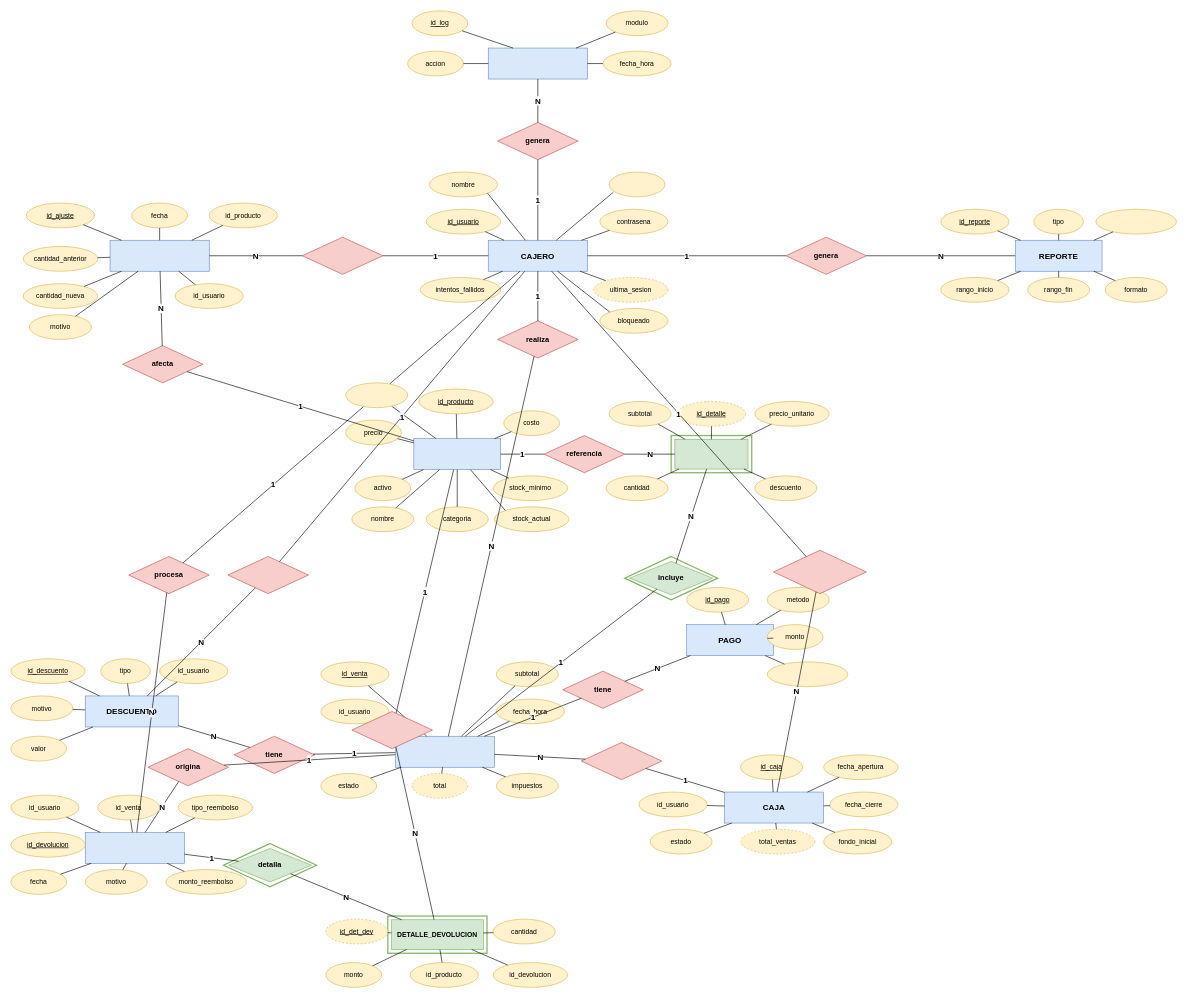
This 1187x998 diagram has some shape labels left out. The shapes that lost their labels are listed below. From the top down, each one's centre as x and y in pixels, then its label:
At (x=537, y=63): "LOG_AUDITORIA".
At (x=637, y=184): "rol".
At (x=1135, y=221): "fecha_generacion".
At (x=159, y=255): "AJUSTE_INVENTARIO".
At (x=342, y=255): "registra".
At (x=376, y=395): "codigo".
At (x=457, y=454): "PRODUCTO".
At (x=711, y=454): "DETALLES_VENTA".
At (x=267, y=575): "aplica".
At (x=819, y=572): "apertura/cierre".
At (x=807, y=674): "num_autorizacion".
At (x=391, y=730): "devuelve".
At (x=444, y=751): "VENTA".
At (x=621, y=761): "contiene".
At (x=134, y=847): "DEVOLUCION".
